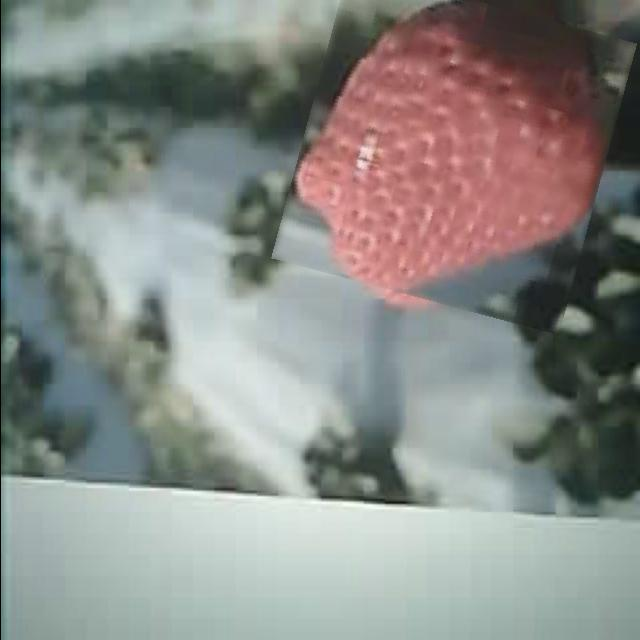strawberry: (287, 0, 619, 318)
